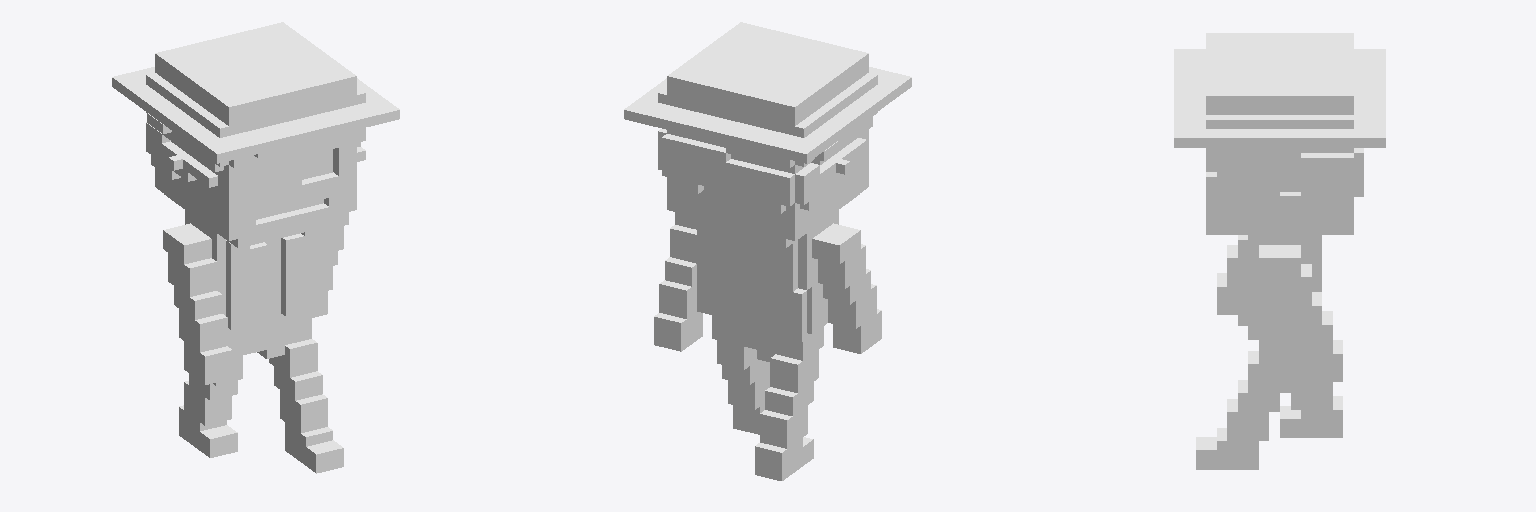
Rendered from pirate2_walk_2.obj.
The picture shows the model from 3 angles: view 1: azimuth 30°, elevation 25°; view 2: azimuth 150°, elevation 25°; view 3: azimuth 270°, elevation 25°; orthographic projection.
Visible parts, largest first — view 1: object 1; view 2: object 1; view 3: object 1.
Boxes of the visible parts, <box> form: object 1: <box>112,22,399,473</box>; object 1: <box>624,22,911,480</box>; object 1: <box>1174,33,1385,469</box>.
Bounding box in the file's own units: 2 × 4 × 2.